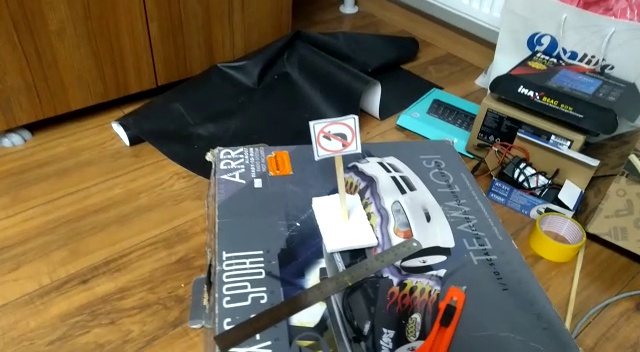sola_donulmez: (314, 119, 357, 153)
